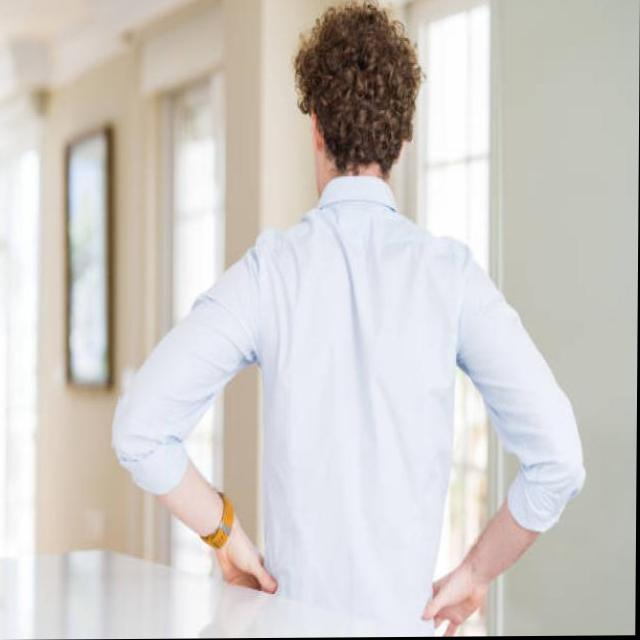no helmet: (284, 3, 427, 243)
